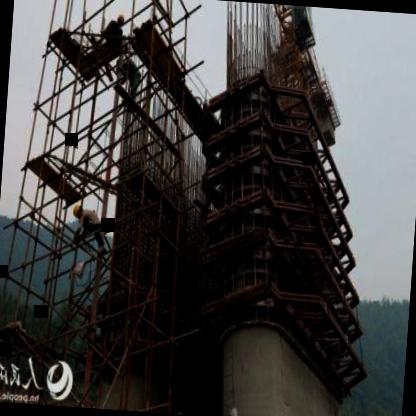helmet: (71, 198, 89, 222)
